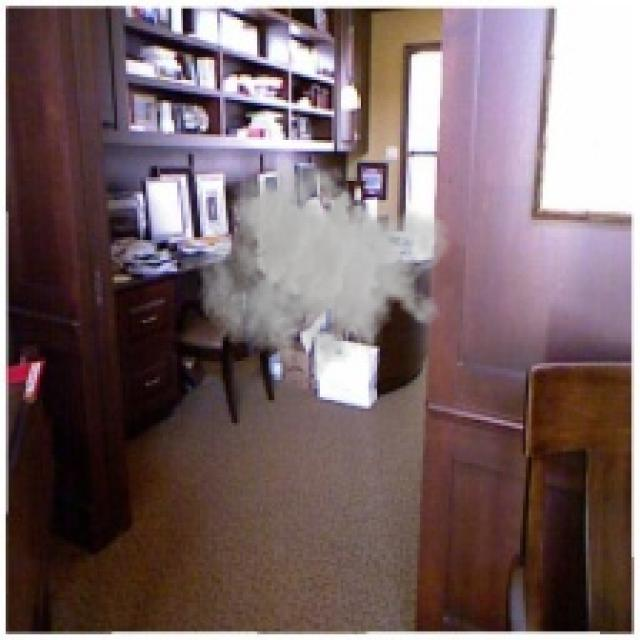smoke: (197, 157, 452, 389)
